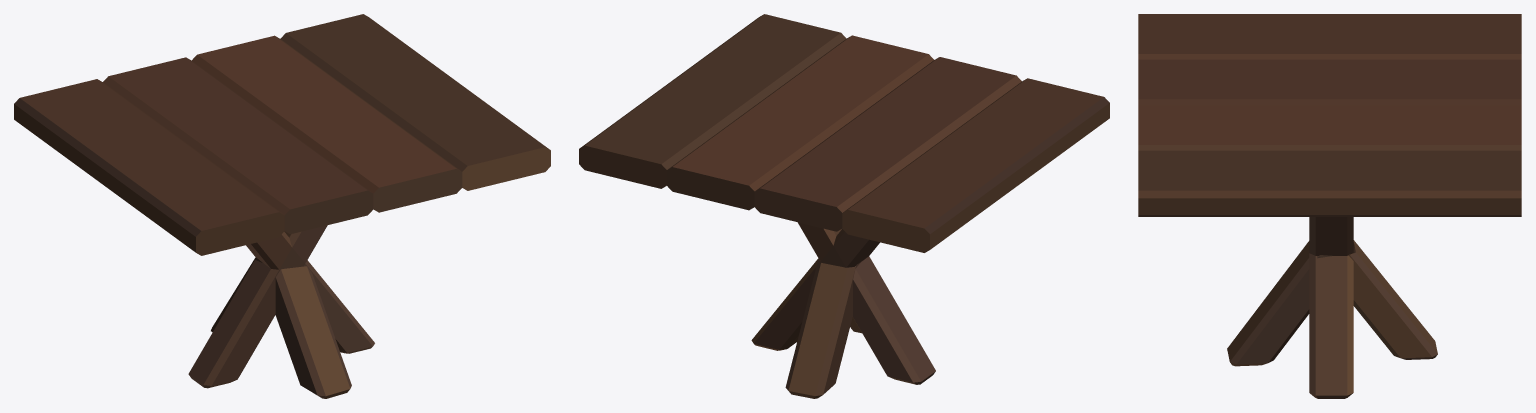
The model's file is Furniture_TableCShort.fbx.
3 renders of one model, left to right at view 1: azimuth 30°, elevation 25°; view 2: azimuth 150°, elevation 25°; view 3: azimuth 270°, elevation 25°, orthographic. The views are drawn at different scales.
Visible parts, largest first — view 1: Furniture_TableCShort; view 2: Furniture_TableCShort; view 3: Furniture_TableCShort.
Boxes of the visible parts, x1,y1,x2,y2 form: Furniture_TableCShort: (14, 14, 550, 398); Furniture_TableCShort: (579, 14, 1109, 398); Furniture_TableCShort: (1138, 14, 1521, 398).
Bounding box in the file's own units: 146 × 94.92 × 130.
